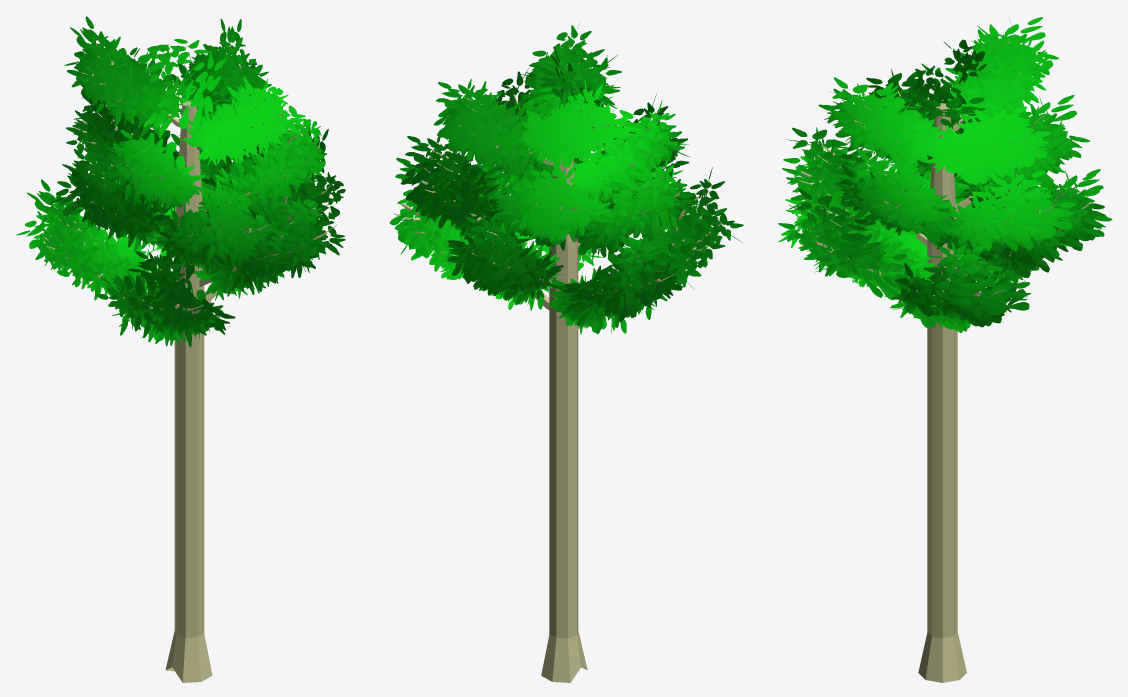
The model's file is CayGoiMedium.fbx.
3 renders of one model, left to right at view 1: azimuth 30°, elevation 25°; view 2: azimuth 150°, elevation 25°; view 3: azimuth 270°, elevation 25°, orthographic.
Parts seen in each view (by area): view 1: LeafNew.634, Cube; view 2: LeafNew.634, Cube; view 3: LeafNew.634, Cube.
Part boxes in pixels (<box>): LeafNew.634: <box>16,16,345,346</box>; Cube: <box>43,45,336,682</box>; LeafNew.634: <box>389,25,743,334</box>; Cube: <box>394,46,721,682</box>; LeafNew.634: <box>778,17,1112,332</box>; Cube: <box>789,34,1088,682</box>.
Size of the model in its own units: 2448 by 4982 by 2421.
Materials: 2 (1 with a texture image).
